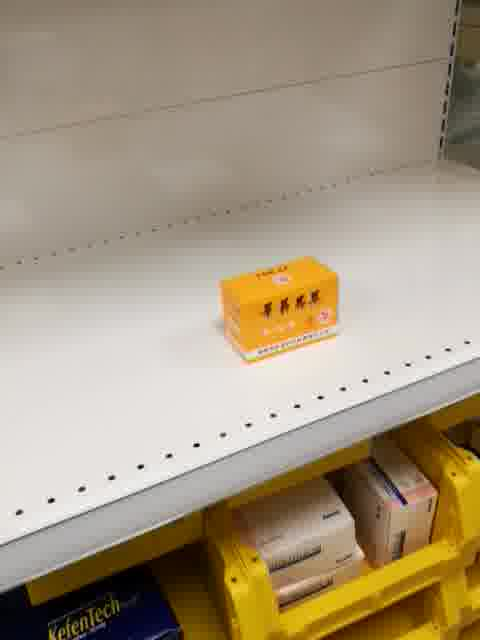jasminetea: (219, 253, 342, 365)
